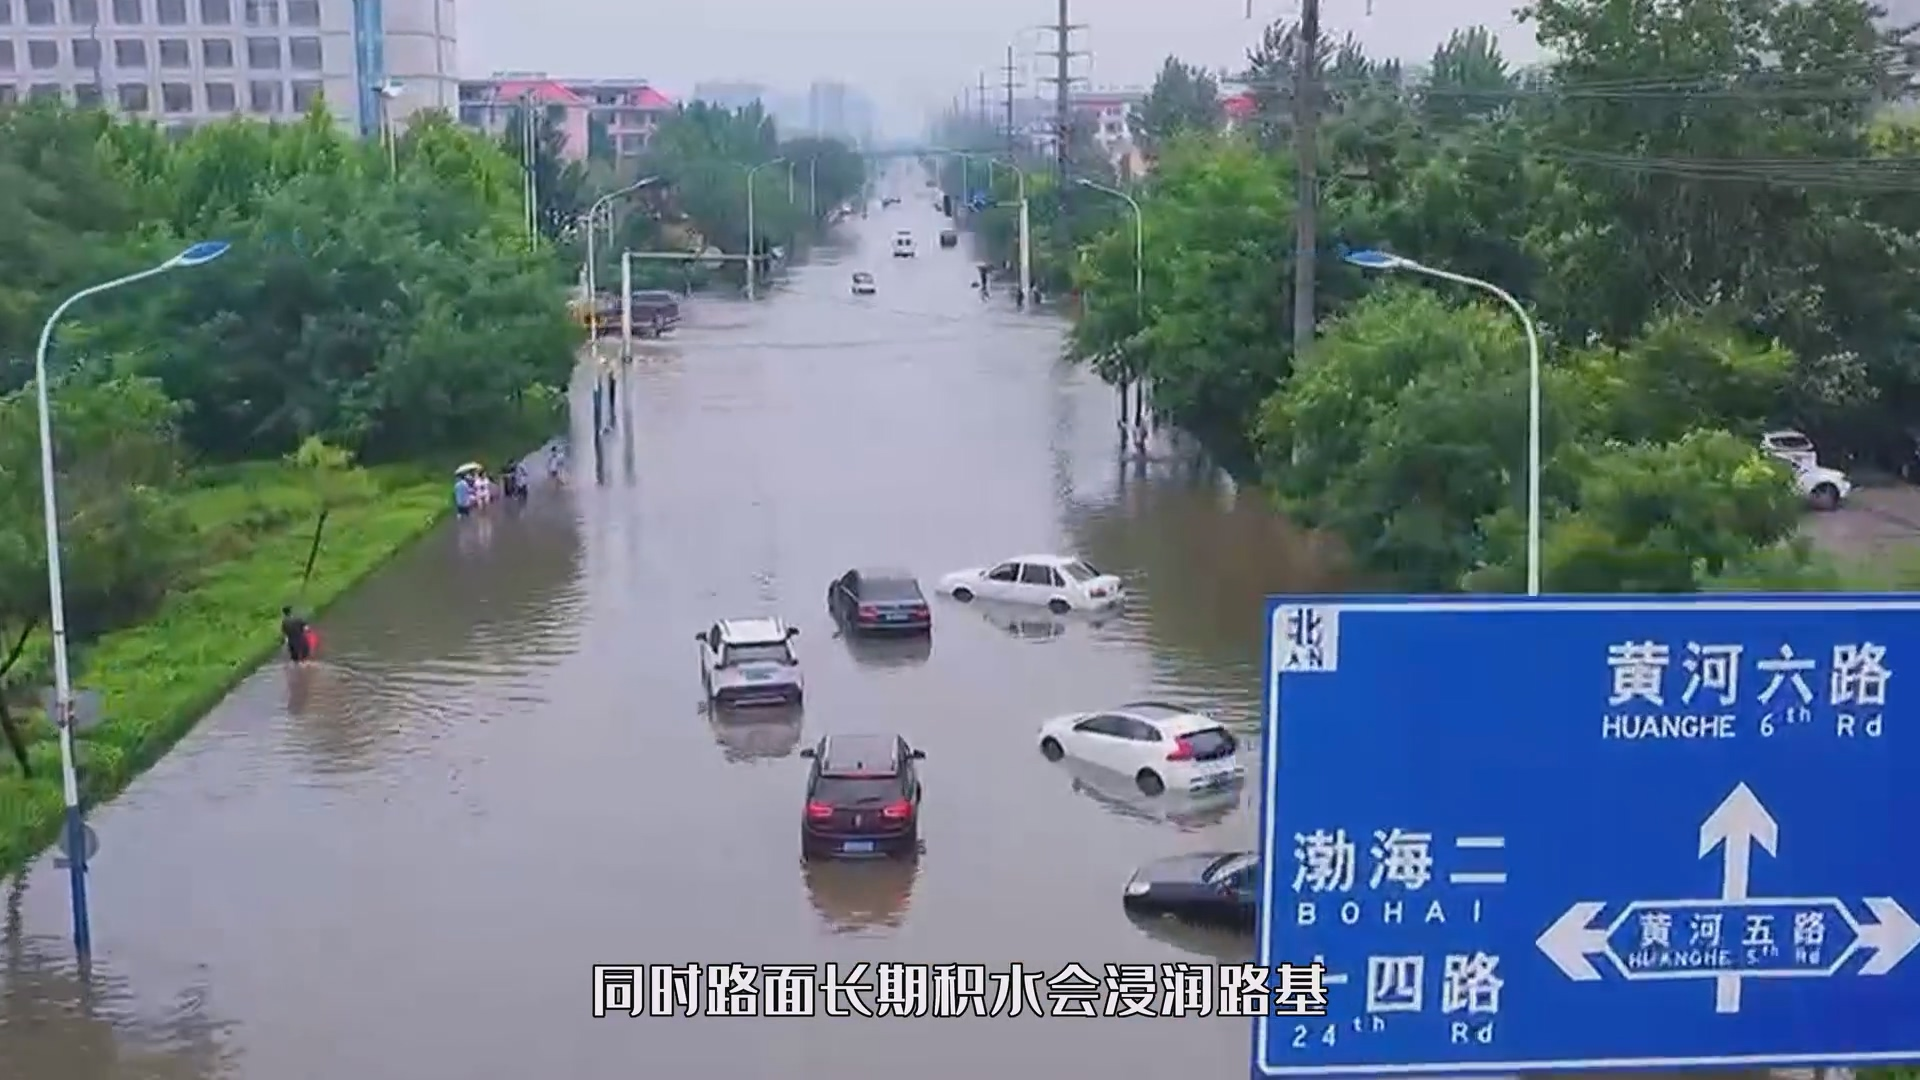puddle: (109, 371, 1266, 1080)
